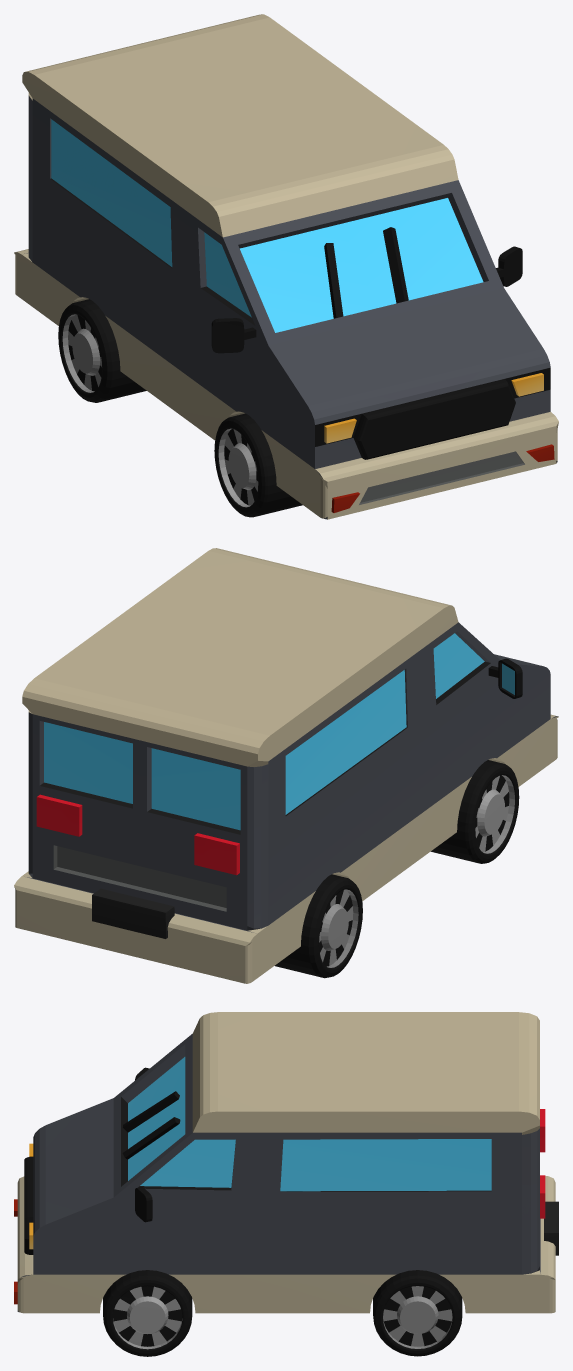
The model's file is araba büyük.fbx.
The picture shows the model from 3 angles, top to bottom: view 1: azimuth 30°, elevation 25°; view 2: azimuth 150°, elevation 25°; view 3: azimuth 270°, elevation 25°; orthographic projection. The views are drawn at different scales.
Visible parts, largest first — view 1: Plane.006; view 2: Plane.006; view 3: Plane.006.
Boxes of the visible parts, bbox=[...] form: Plane.006: bbox=[14, 14, 558, 519]; Plane.006: bbox=[14, 548, 558, 983]; Plane.006: bbox=[14, 1012, 558, 1356].
Size of the model in its own units: 344 by 297 by 605.
1 material, 1 textured.
